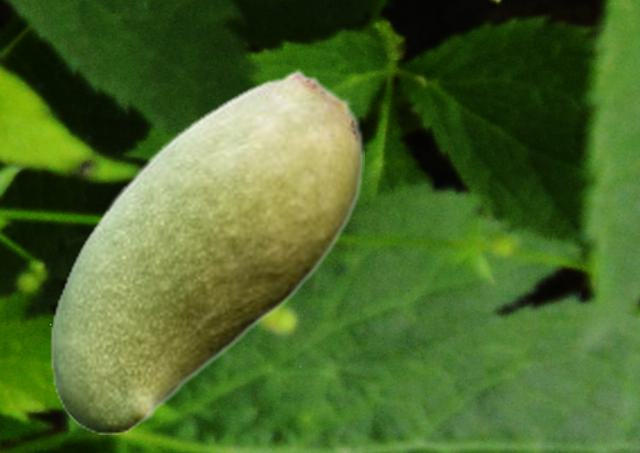green_mango: (49, 69, 363, 433)
